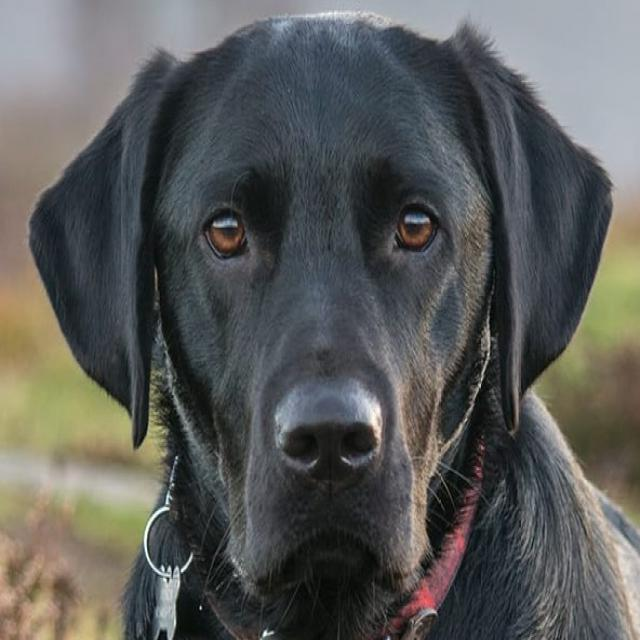eye: (387, 197, 444, 259), (201, 202, 255, 266)
